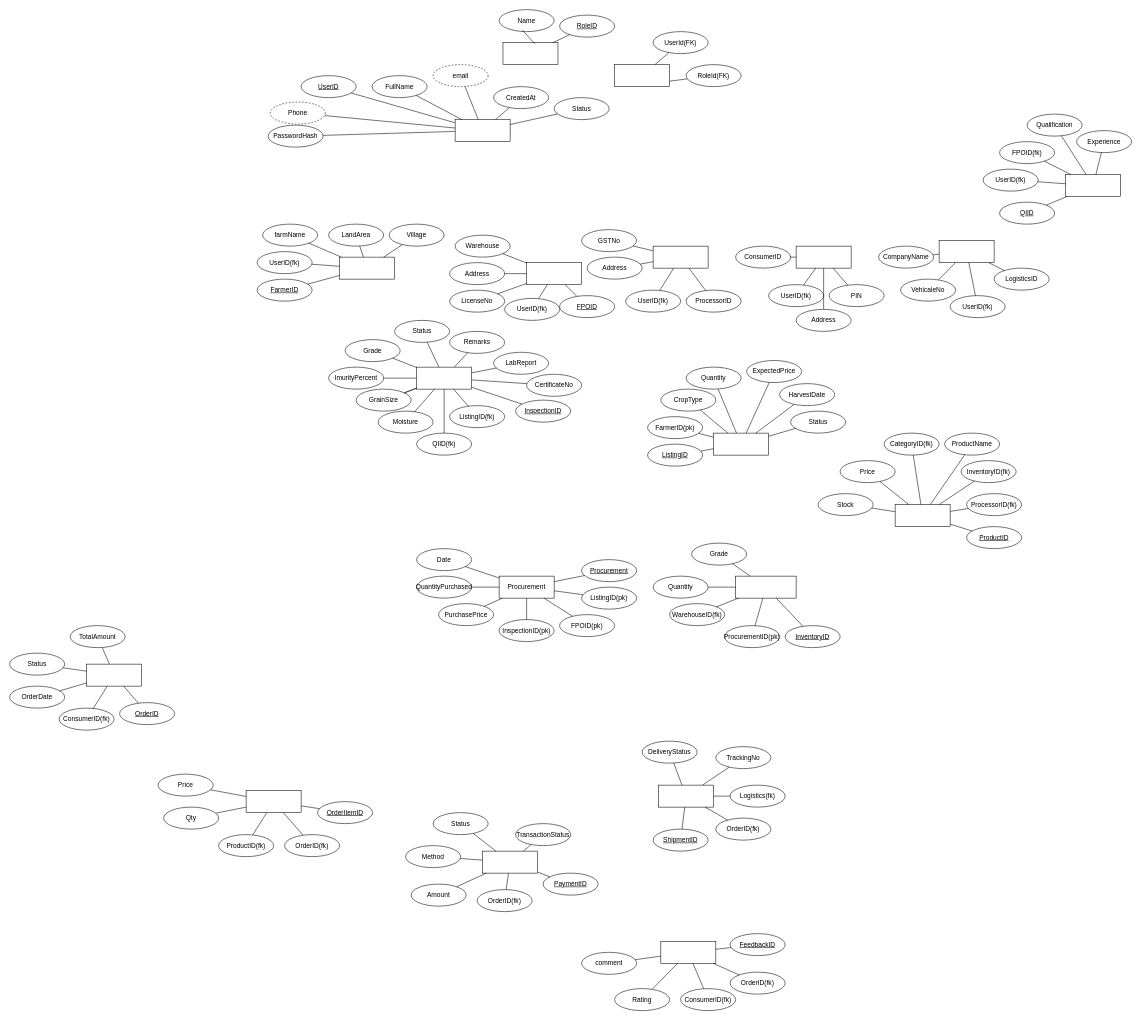
This 1141x1020 diagram has some shape labels left out. Each missing label, with the box of its shape:
Consumer: (796, 246, 851, 268)
CropListing: (713, 433, 769, 455)
Farmer: (339, 257, 395, 279)
Feeback: (660, 941, 716, 963)
FPO: (526, 262, 582, 285)
Logistics: (939, 240, 994, 263)
Order: (86, 664, 142, 686)
OrderItem: (246, 790, 301, 813)
Payment: (482, 851, 538, 873)
Processor: (653, 246, 708, 268)
Product: (895, 504, 950, 527)
QualityInspection: (416, 367, 472, 389)
QualityInspector: (1065, 174, 1121, 197)
Roles: (502, 42, 558, 65)
Shipment: (658, 785, 714, 807)
UserRoles: (614, 64, 670, 87)
Users: (455, 119, 510, 142)
WarehouseInventory: (735, 576, 796, 598)
